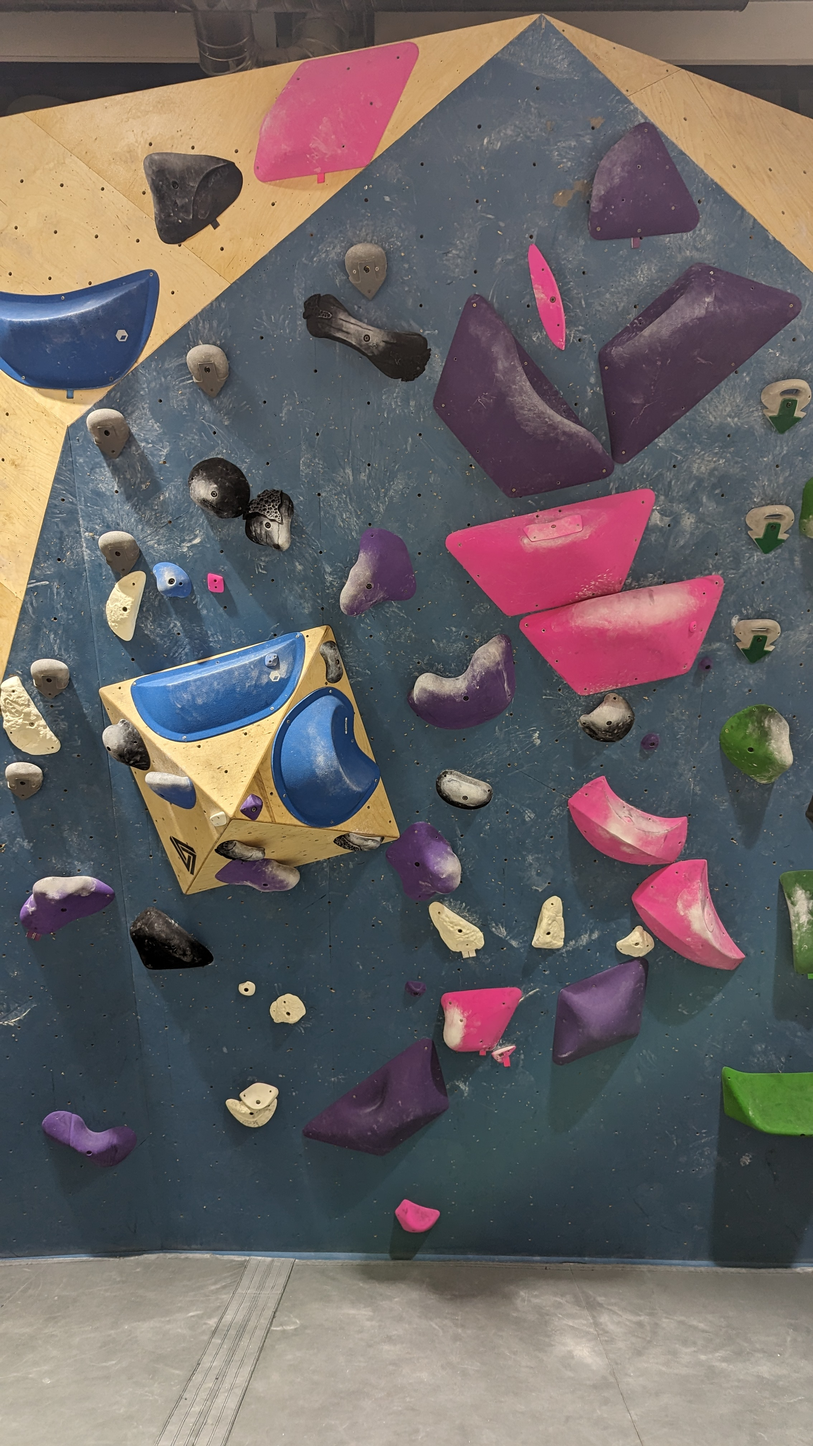hold: (597, 264, 799, 463), (433, 296, 612, 499), (445, 490, 655, 616), (522, 575, 721, 695), (255, 42, 417, 182), (0, 271, 160, 393), (133, 635, 304, 739), (305, 1040, 446, 1154), (271, 691, 379, 827), (588, 122, 696, 240), (633, 860, 742, 969), (303, 294, 429, 382), (567, 778, 686, 868), (410, 636, 511, 730), (553, 962, 643, 1065), (144, 154, 242, 245), (341, 528, 415, 619), (722, 1068, 813, 1136), (386, 824, 460, 901), (22, 877, 114, 937), (441, 987, 522, 1053), (720, 707, 790, 783), (42, 1111, 134, 1165), (130, 909, 211, 969), (0, 678, 60, 753), (528, 244, 565, 350), (189, 458, 250, 519), (780, 872, 813, 977), (429, 903, 482, 956), (761, 380, 813, 434), (244, 491, 291, 550), (105, 573, 145, 642), (215, 859, 299, 891), (580, 695, 632, 743), (746, 505, 794, 553), (343, 245, 386, 298), (102, 722, 149, 769), (730, 618, 778, 662), (85, 408, 128, 457), (228, 1083, 275, 1127), (186, 346, 228, 394), (437, 772, 490, 810), (146, 773, 196, 810), (99, 532, 140, 577), (533, 898, 564, 948), (30, 661, 68, 700), (5, 763, 43, 798), (396, 1201, 438, 1232), (153, 563, 190, 596), (616, 928, 651, 958), (215, 840, 264, 861), (334, 832, 383, 852), (320, 643, 343, 681), (798, 480, 813, 537), (271, 996, 303, 1021), (238, 795, 261, 818), (210, 810, 229, 833), (205, 574, 224, 594), (641, 734, 658, 749), (238, 983, 255, 996), (406, 982, 422, 994)
volume: (99, 624, 402, 894)
